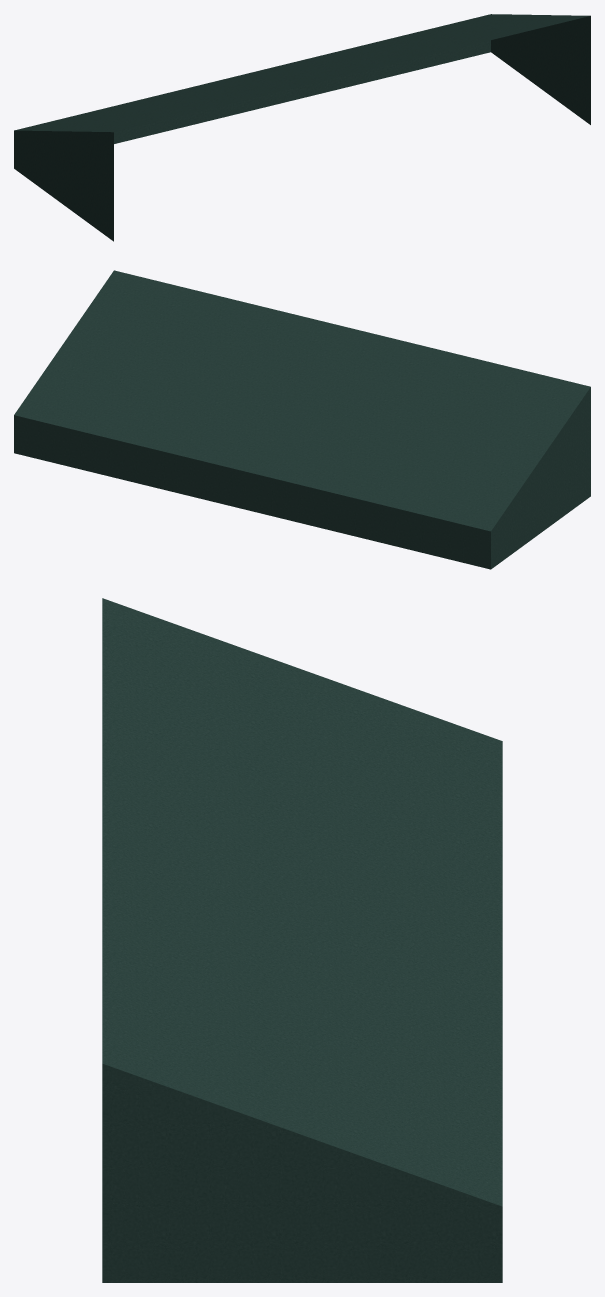
Rendered from Tent.fbx.
3 views of the same model, one above another, from view 1: azimuth 30°, elevation 25°; view 2: azimuth 150°, elevation 25°; view 3: azimuth 270°, elevation 25° (orthographic). The views are drawn at different scales.
Visible parts, largest first — view 1: Object122; view 2: Object122; view 3: Object122.
Part boxes in pixels (x1,y1,x2,y2): Object122: (14,14,590,241); Object122: (14,270,590,569); Object122: (102,598,502,1282).
Bounding box in the file's own units: 3.71 × 0.8146 × 1.35.
1 material, 1 textured.
